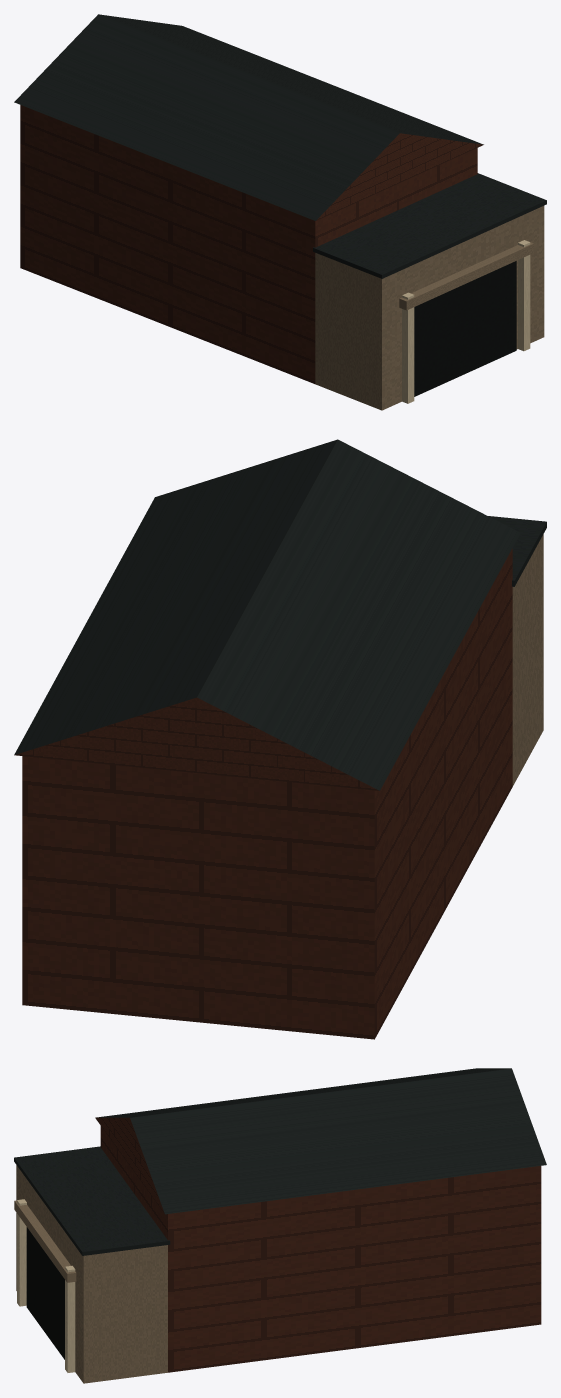
3 views of the same model, one above another, from view 1: azimuth 30°, elevation 25°; view 2: azimuth 150°, elevation 25°; view 3: azimuth 270°, elevation 25° (orthographic). The views are drawn at different scales.
Parts seen in each view (by area): view 1: thalia-hoogstraat-0, thalia-hoogstraat-1, thalia-hoogstraat-2, thalia-hoogstraat-3, thalia-hoogstraat-4; view 2: thalia-hoogstraat-0, thalia-hoogstraat-1, thalia-hoogstraat-2; view 3: thalia-hoogstraat-0, thalia-hoogstraat-1, thalia-hoogstraat-2, thalia-hoogstraat-3, thalia-hoogstraat-4.
Boxes of the visible parts, x1,y1,x2,y2 form: thalia-hoogstraat-0: (20, 105, 483, 383); thalia-hoogstraat-1: (14, 14, 546, 278); thalia-hoogstraat-2: (315, 206, 544, 410); thalia-hoogstraat-3: (414, 261, 516, 396); thalia-hoogstraat-4: (402, 240, 530, 403); thalia-hoogstraat-0: (14, 548, 512, 1039); thalia-hoogstraat-1: (14, 439, 546, 790); thalia-hoogstraat-2: (512, 534, 543, 786); thalia-hoogstraat-0: (95, 1117, 541, 1372); thalia-hoogstraat-1: (14, 1068, 546, 1255); thalia-hoogstraat-2: (14, 1165, 167, 1383); thalia-hoogstraat-3: (26, 1227, 64, 1359); thalia-hoogstraat-4: (17, 1199, 75, 1372).
Bounding box in the file's own units: 20.76 × 13 × 30.06.
Materials: 5 (5 with a texture image).
